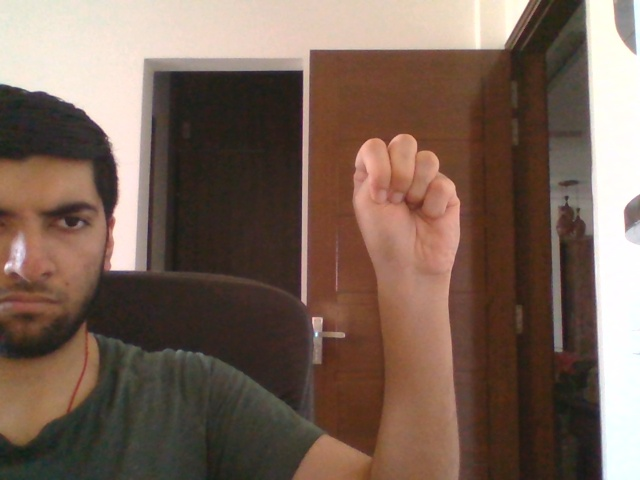LetterM: (351, 132, 462, 279)
